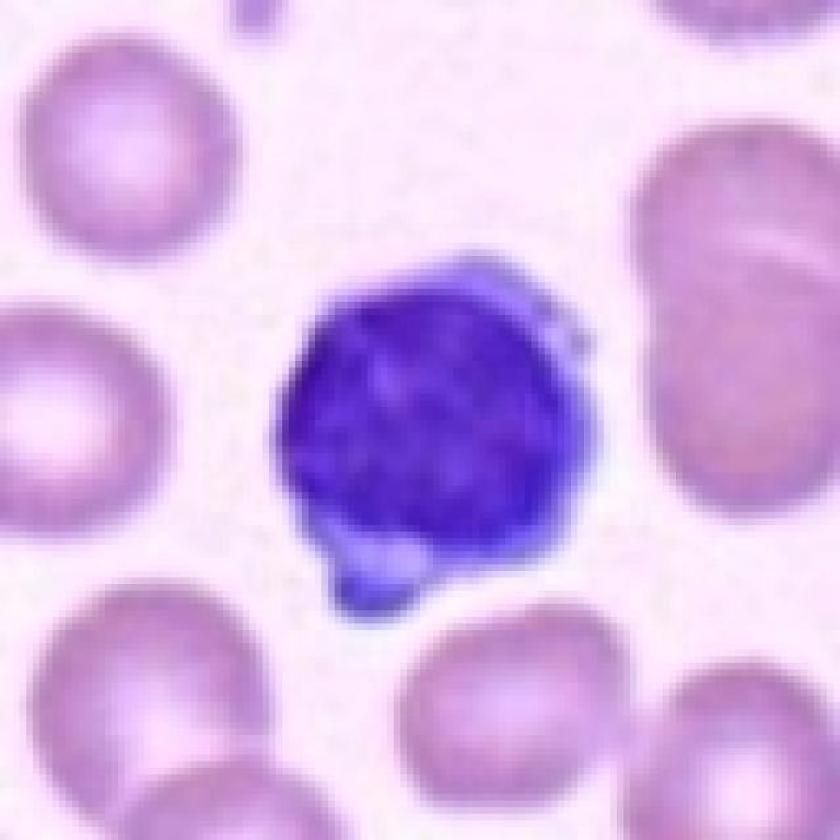lymphocyte: (261, 232, 624, 630)
